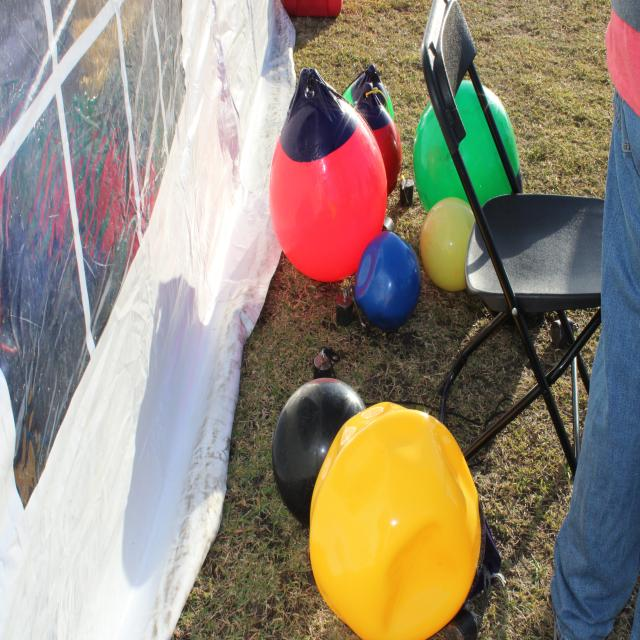blue-buoy: (362, 227, 422, 321)
green-buoy: (415, 80, 523, 214)
red-buoy: (262, 58, 388, 280)
yellow-duck: (303, 399, 497, 640)
